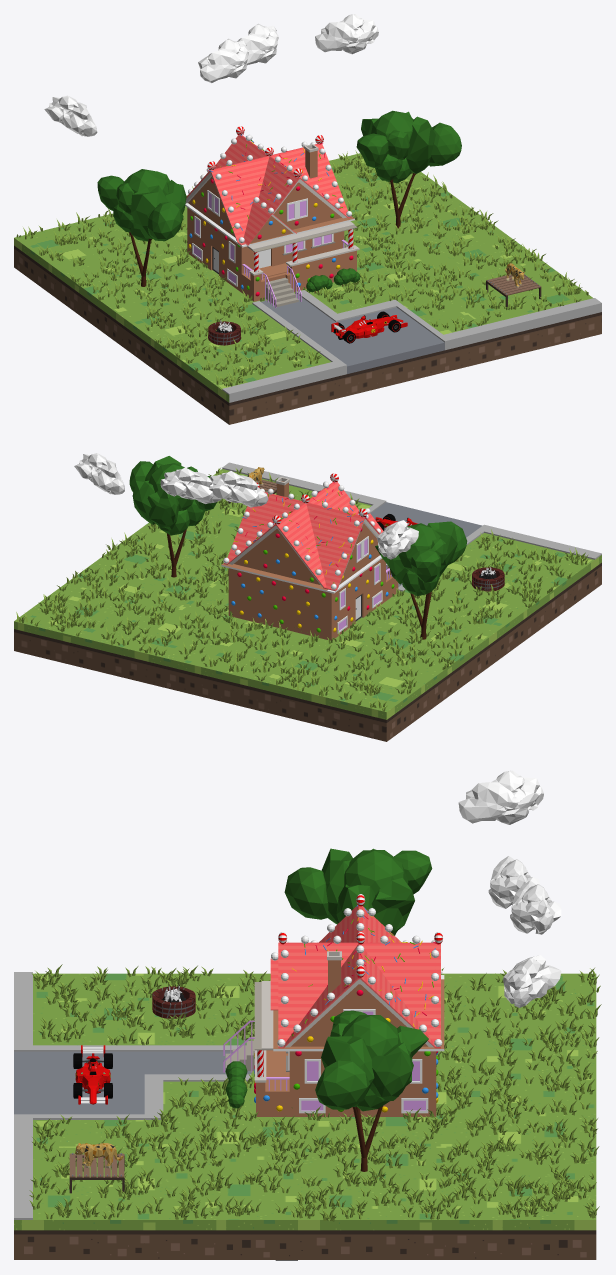
3 views of the same model, one above another, from view 1: azimuth 30°, elevation 25°; view 2: azimuth 150°, elevation 25°; view 3: azimuth 270°, elevation 25° (orthographic). The views are drawn at different scales.
Parts seen in each view (by area): view 1: Cube.006, Cube.1203, Circle.012_Grass_0.192, Cube.007, tree, tree.001, VEHICLES_FORMULA_1, Cube.009, OBJRANDOM_CAMPFIRE; view 2: Cube.006, Cube.1203, Circle.012_Grass_0.192, Cube.007, tree.001, tree, OBJRANDOM_CAMPFIRE; view 3: Cube.006, Circle.012_Grass_0.192, Cube.1203, tree, Cube.007, tree.001, VEHICLES_FORMULA_1, Cube.009, OBJRANDOM_CAMPFIRE, ANIMAL_JAGUAR.
Part boxes in pixels (x1=…): Cube.006: x1=14, y1=153, x2=601, y2=424; Cube.1203: x1=185, y1=126, x2=359, y2=307; Circle.012_Grass_0.192: x1=16, y1=150, x2=588, y2=386; Cube.007: x1=44, y1=14, x2=378, y2=136; tree: x1=356, y1=110, x2=461, y2=228; tree.001: x1=97, y1=169, x2=186, y2=286; VEHICLES_FORMULA_1: x1=331, y1=311, x2=407, y2=343; Cube.009: x1=486, y1=274, x2=541, y2=306; OBJRANDOM_CAMPFIRE: x1=208, y1=319, x2=241, y2=345; Cube.006: x1=14, y1=462, x2=601, y2=741; Cube.1203: x1=221, y1=473, x2=398, y2=640; Circle.012_Grass_0.192: x1=16, y1=468, x2=588, y2=711; Cube.007: x1=74, y1=453, x2=418, y2=559; tree.001: x1=375, y1=521, x2=467, y2=639; tree: x1=129, y1=456, x2=216, y2=577; OBJRANDOM_CAMPFIRE: x1=472, y1=567, x2=504, y2=591; Cube.006: x1=14, y1=972, x2=596, y2=1259; Circle.012_Grass_0.192: x1=29, y1=964, x2=601, y2=1221; Cube.1203: x1=223, y1=894, x2=444, y2=1116; tree: x1=315, y1=1010, x2=428, y2=1171; Cube.007: x1=458, y1=770, x2=561, y2=1007; tree.001: x1=284, y1=848, x2=432, y2=935; VEHICLES_FORMULA_1: x1=73, y1=1045, x2=112, y2=1104; Cube.009: x1=69, y1=1153, x2=124, y2=1193; OBJRANDOM_CAMPFIRE: x1=152, y1=984, x2=195, y2=1018; ANIMAL_JAGUAR: x1=75, y1=1143, x2=123, y2=1168.
Size of the model in its own units: 4071 by 2184 by 4040.
Materials: 45 (4 with a texture image).
